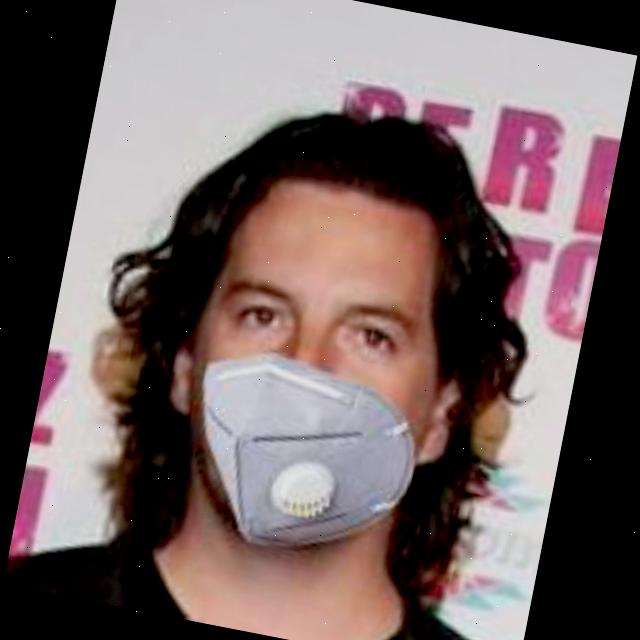suspicion: (136, 116, 525, 554)
